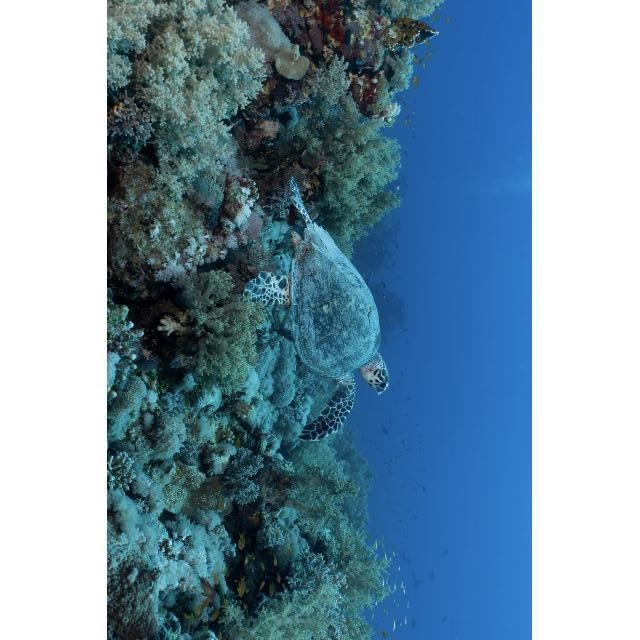turtle: (242, 177, 391, 443)
